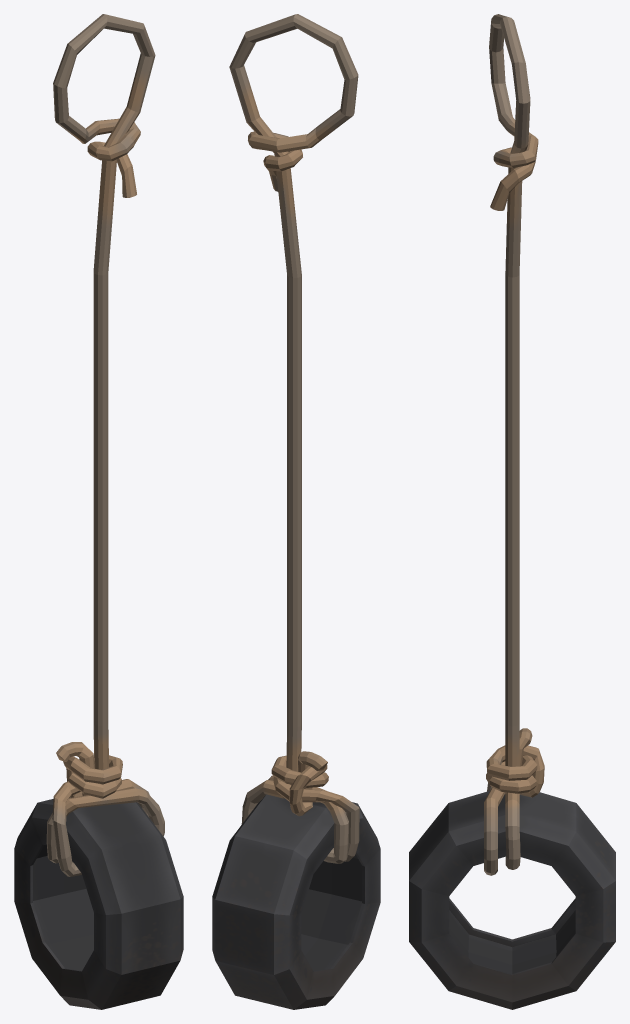
File: tire_swing.fbx
The picture shows the model from 3 angles, left to right: view 1: azimuth 30°, elevation 25°; view 2: azimuth 150°, elevation 25°; view 3: azimuth 270°, elevation 25°; orthographic projection.
Parts seen in each view (by area): view 1: tire, rope2; view 2: tire, rope2; view 3: tire, rope2.
Part boxes in pixels (left/top/right/bottom): tire: left=14, top=723, right=183, bottom=1009; rope2: left=53, top=14, right=155, bottom=726; tire: left=212, top=724, right=380, bottom=1009; rope2: left=229, top=14, right=358, bottom=727; tire: left=409, top=724, right=615, bottom=1009; rope2: left=489, top=14, right=538, bottom=726.
Bounding box in the file's own units: 36.79 × 301 × 57.66.
1 material, 1 textured.
